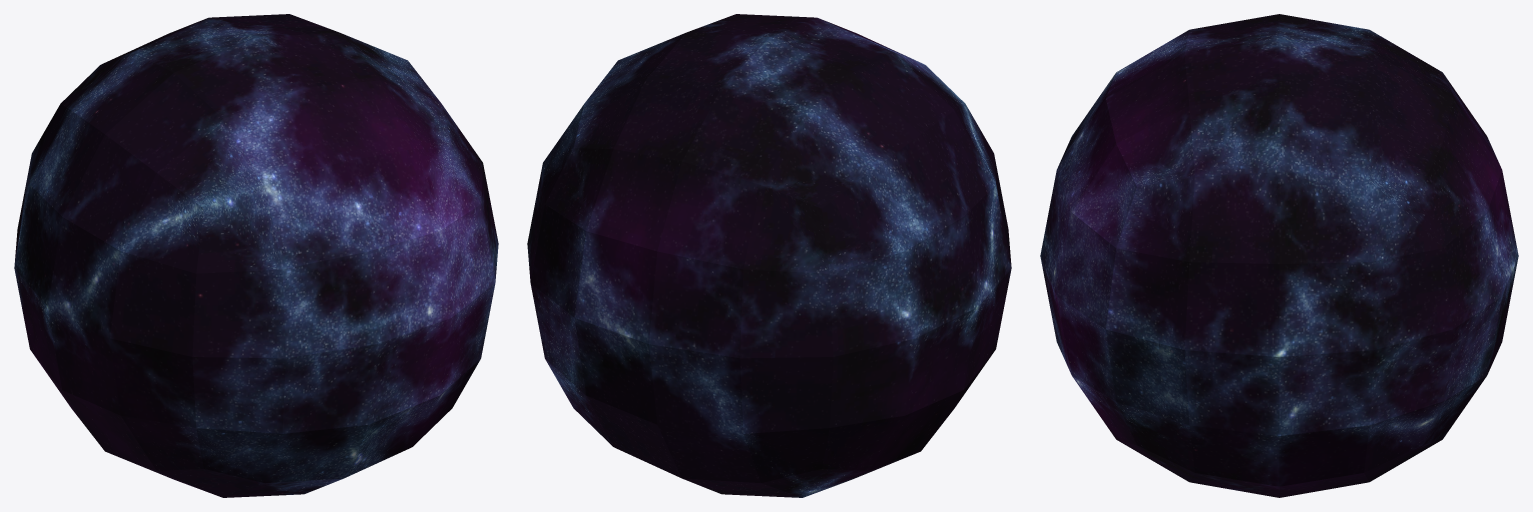
File: SkySphere.obj
3 renders of one model, left to right at view 1: azimuth 30°, elevation 25°; view 2: azimuth 150°, elevation 25°; view 3: azimuth 270°, elevation 25°, orthographic.
Visible parts, largest first — view 1: Cube.002_Cube.008; view 2: Cube.002_Cube.008; view 3: Cube.002_Cube.008.
Boxes of the visible parts, bbox=[...] form: Cube.002_Cube.008: bbox=[14, 14, 498, 497]; Cube.002_Cube.008: bbox=[527, 14, 1011, 497]; Cube.002_Cube.008: bbox=[1040, 14, 1518, 497].
Bounding box in the file's own units: 6216 × 6216 × 6216.
Materials: 1 (1 with a texture image).
